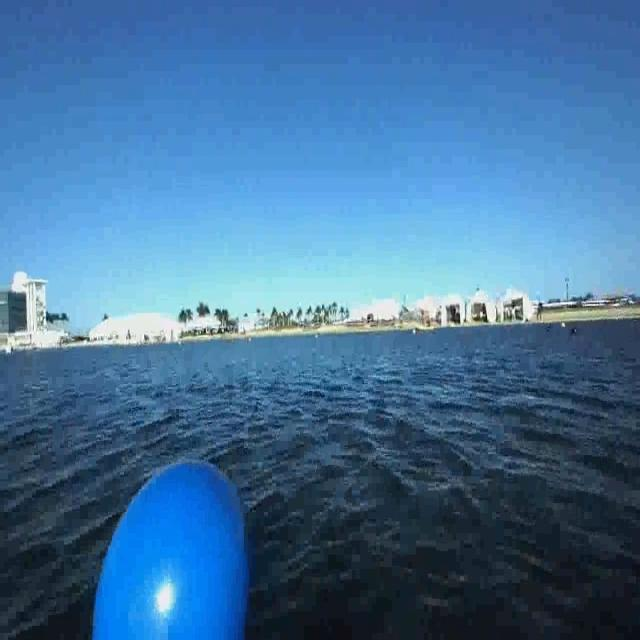blue-buoy: (83, 447, 259, 639)
